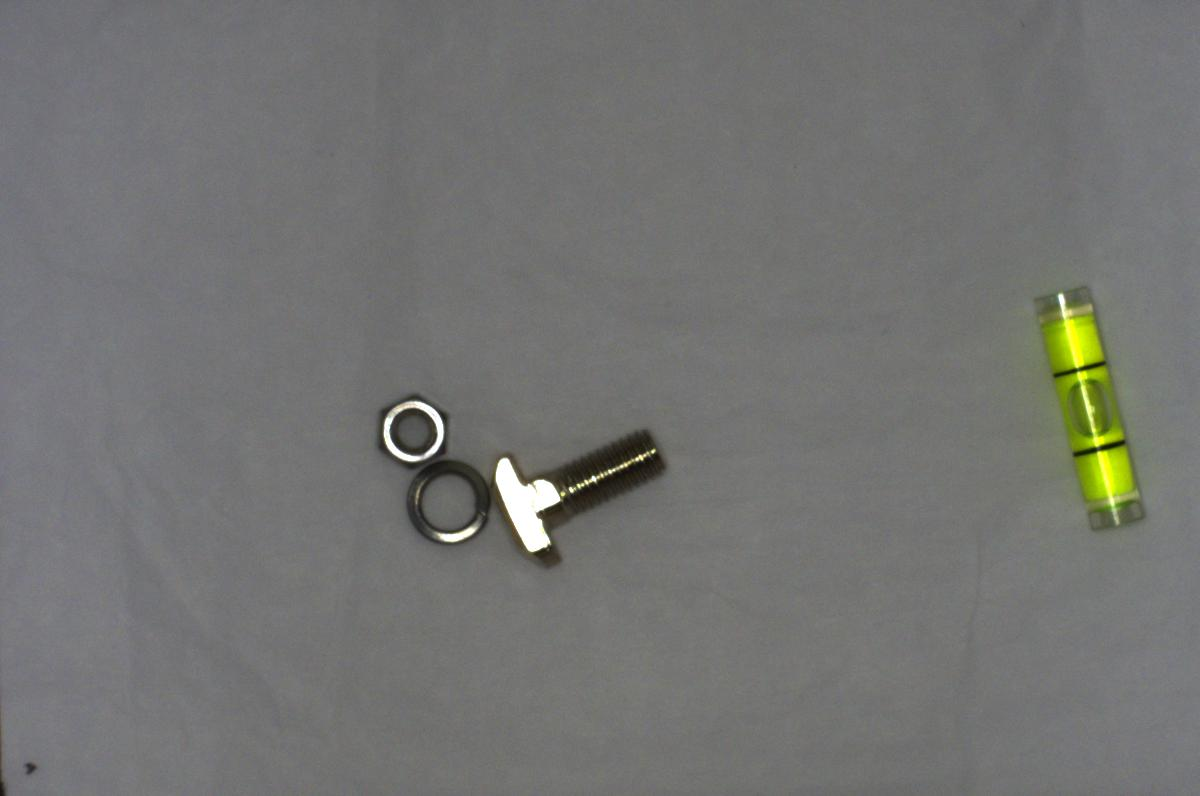Hexagon nut: (373, 390, 454, 469)
Horizontal bubble: (1024, 281, 1162, 543)
Spring washer: (395, 450, 497, 561)
T-shaped screw: (477, 419, 685, 569)
